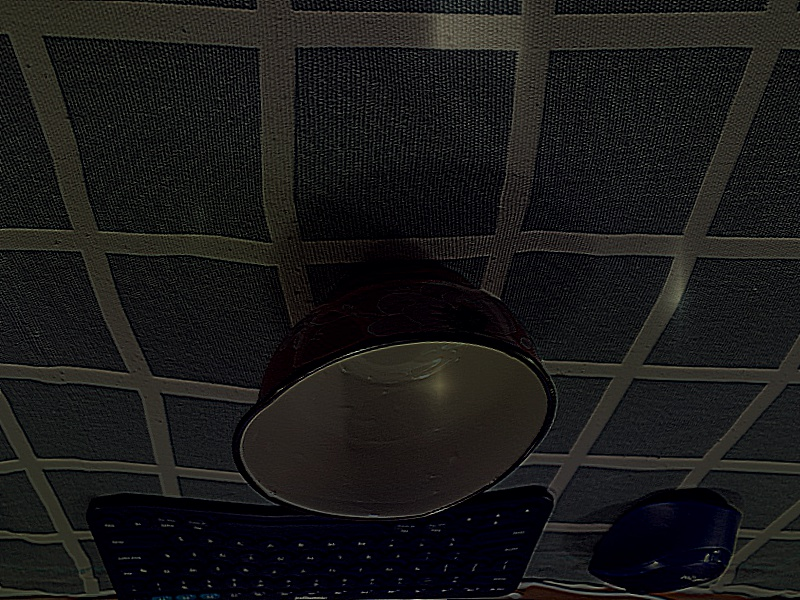bowl_small: (211, 243, 578, 520)
